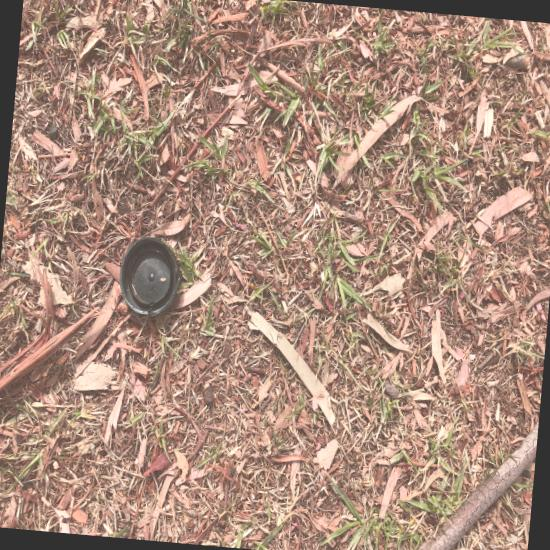Cigarette: (460, 248, 467, 258), (486, 170, 491, 183), (528, 305, 534, 315), (398, 158, 405, 165), (487, 254, 494, 260), (373, 323, 377, 332), (480, 249, 483, 260), (418, 165, 422, 173)
Disposable food container: (423, 190, 432, 208)
Other plastic: (351, 255, 380, 280), (414, 179, 421, 194), (403, 142, 410, 154)
Plastic bottle cap: (544, 140, 550, 158)
Plastic film: (364, 151, 388, 178), (531, 158, 548, 178), (492, 129, 503, 139), (394, 224, 401, 237), (540, 126, 550, 135)
Plastic straw: (381, 185, 432, 231), (459, 159, 497, 187), (513, 193, 550, 201), (387, 376, 403, 388), (378, 374, 381, 386)
Plastic utensils: (491, 248, 512, 303), (363, 193, 384, 234), (426, 274, 446, 315)
Tissues: (529, 55, 550, 100)
Unlabeled litter: (522, 376, 537, 387), (506, 118, 523, 126)
